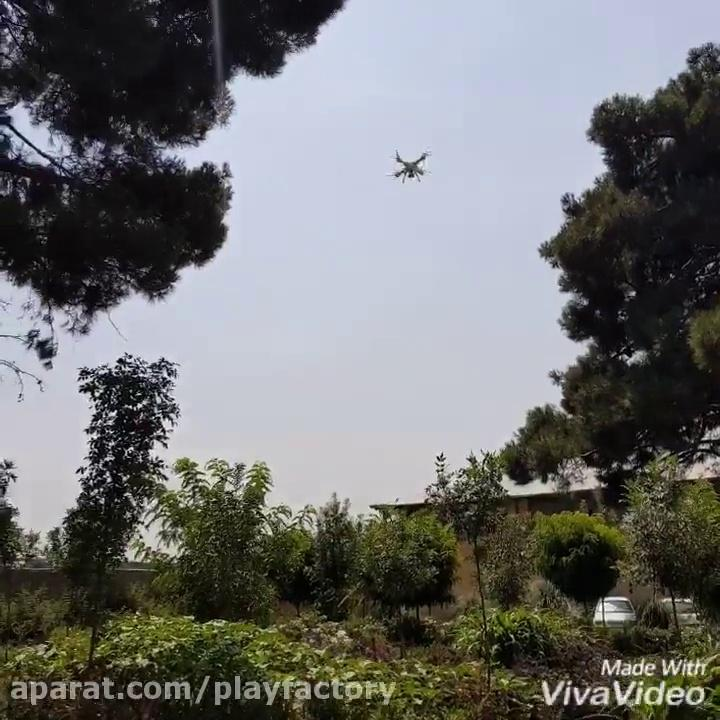drone: (382, 143, 439, 185)
